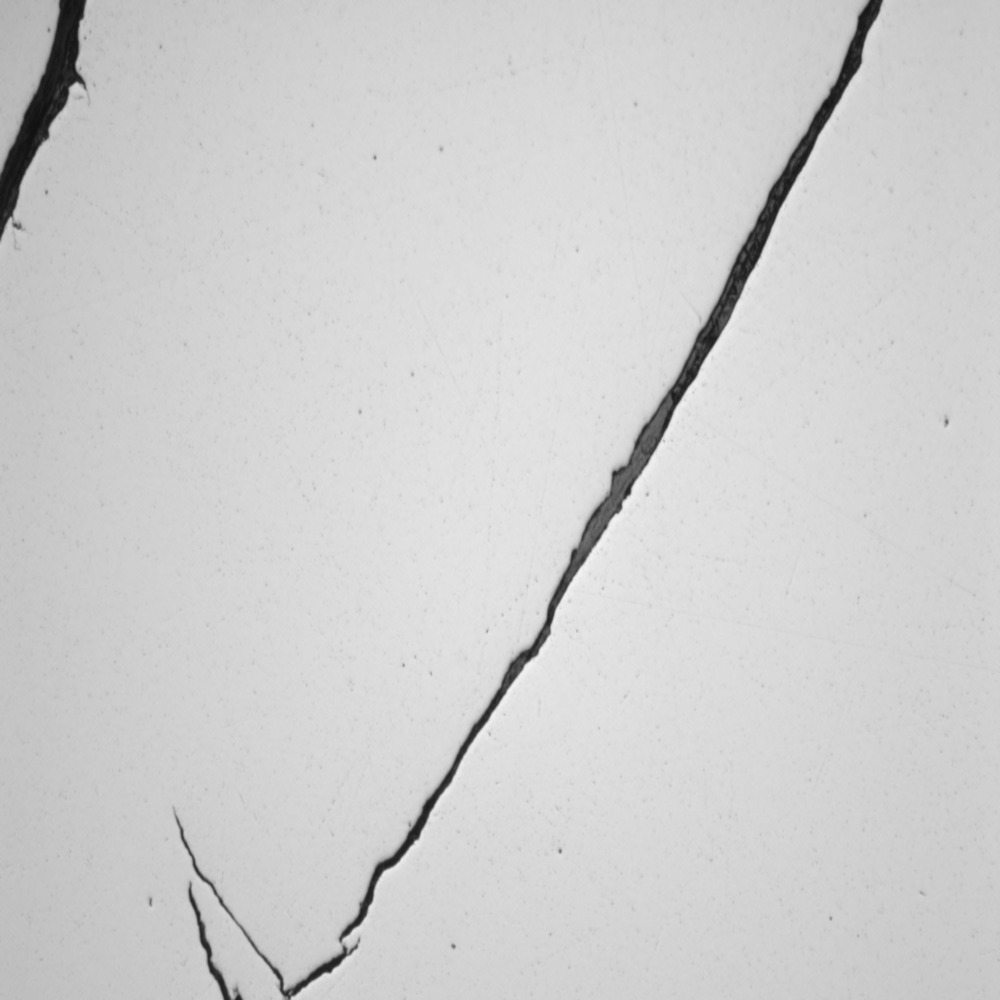crack: (178, 1, 886, 993), (1, 1, 115, 220)
